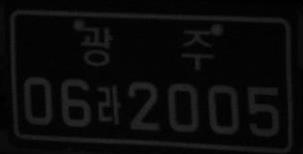0: (166, 81, 199, 133), (207, 85, 240, 136), (23, 75, 52, 127)
2: (127, 80, 160, 132)
5: (246, 85, 281, 138)
6: (60, 77, 92, 128)
광주_D: (79, 24, 212, 72)
라: (96, 85, 121, 125)
